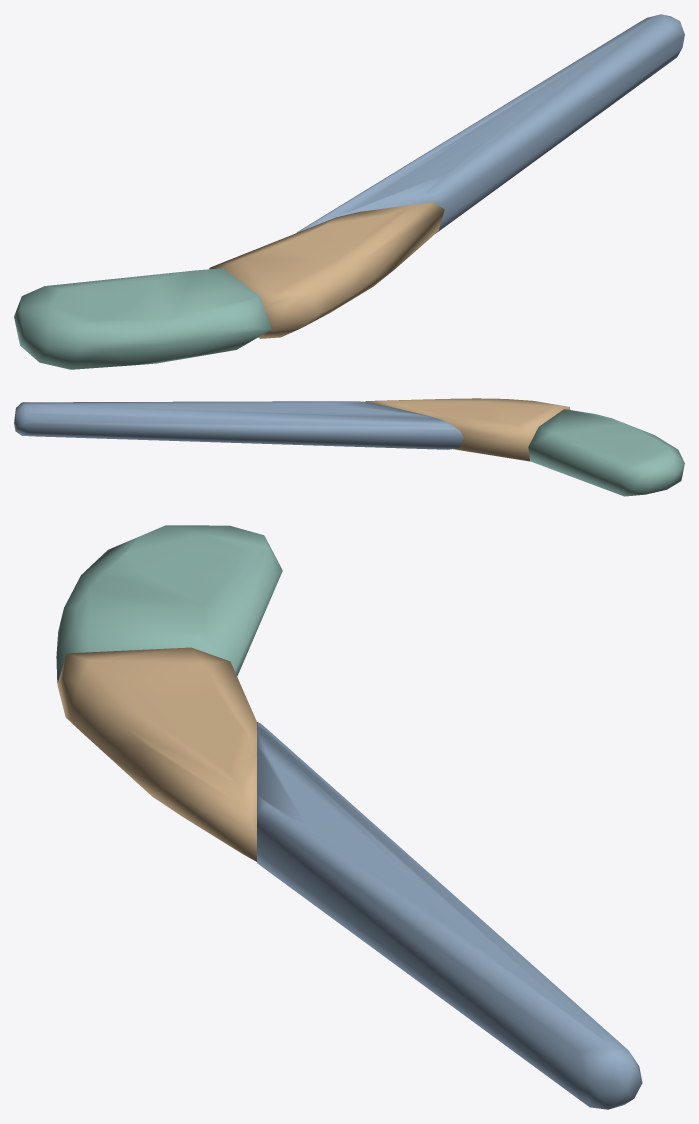
3 renders of one model, top to bottom at view 1: azimuth 30°, elevation 25°; view 2: azimuth 150°, elevation 25°; view 3: azimuth 270°, elevation 25°, orthographic. The views are drawn at different scales.
Bounding box in the file's own units: 1.87 × 0.1018 × 0.8541.
